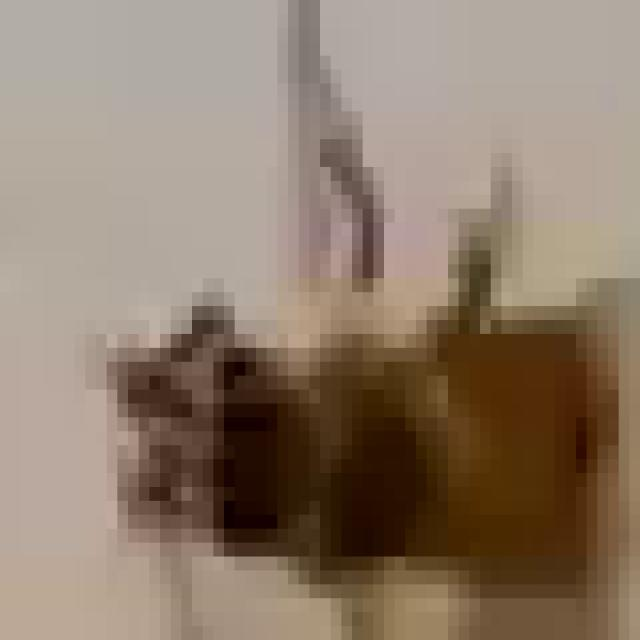honeybee: (92, 270, 621, 576)
